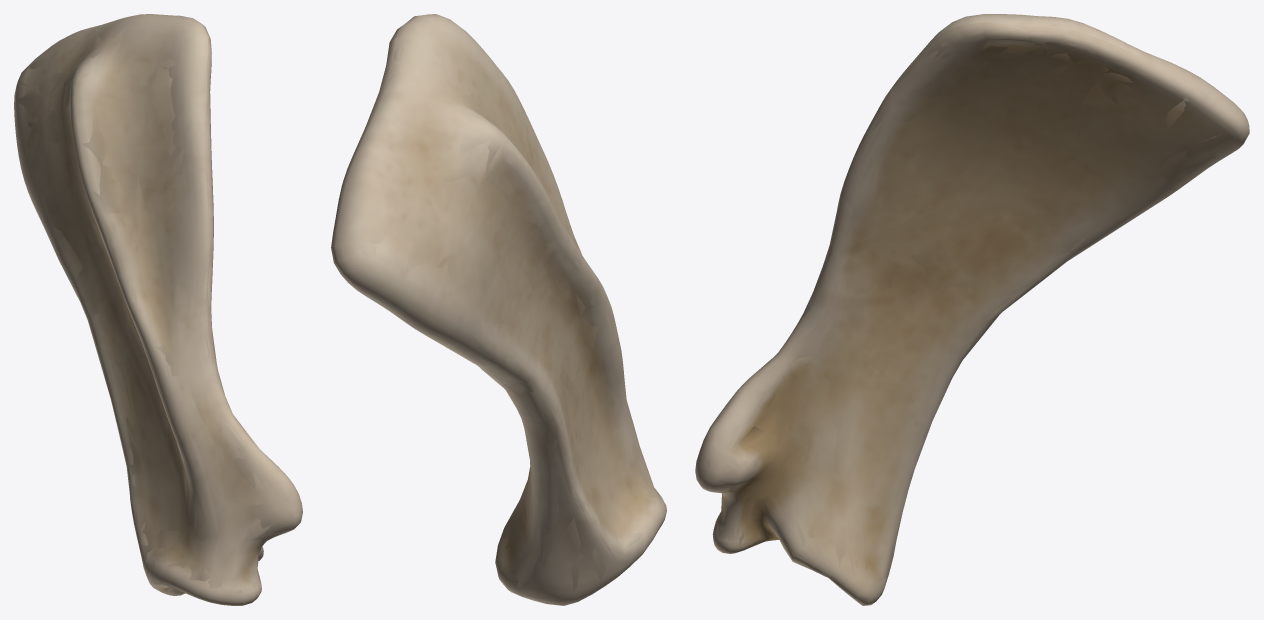
File: R Scapula.fbx
3 renders of one model, left to right at view 1: azimuth 30°, elevation 25°; view 2: azimuth 150°, elevation 25°; view 3: azimuth 270°, elevation 25°, orthographic. The views are drawn at different scales.
Visible parts, largest first — view 1: R Scapula, R Scapula low; view 2: R Scapula, R Scapula low; view 3: R Scapula low, R Scapula.
Part boxes in pixels (bbox=[...]): R Scapula: bbox=[14, 14, 302, 605]; R Scapula low: bbox=[17, 14, 301, 603]; R Scapula: bbox=[331, 14, 666, 605]; R Scapula low: bbox=[332, 26, 662, 604]; R Scapula low: bbox=[697, 15, 1249, 605]; R Scapula: bbox=[695, 14, 1249, 605].
Bounding box in the file's own units: 9.55 × 37.16 × 30.78.
1 material, 1 textured.
